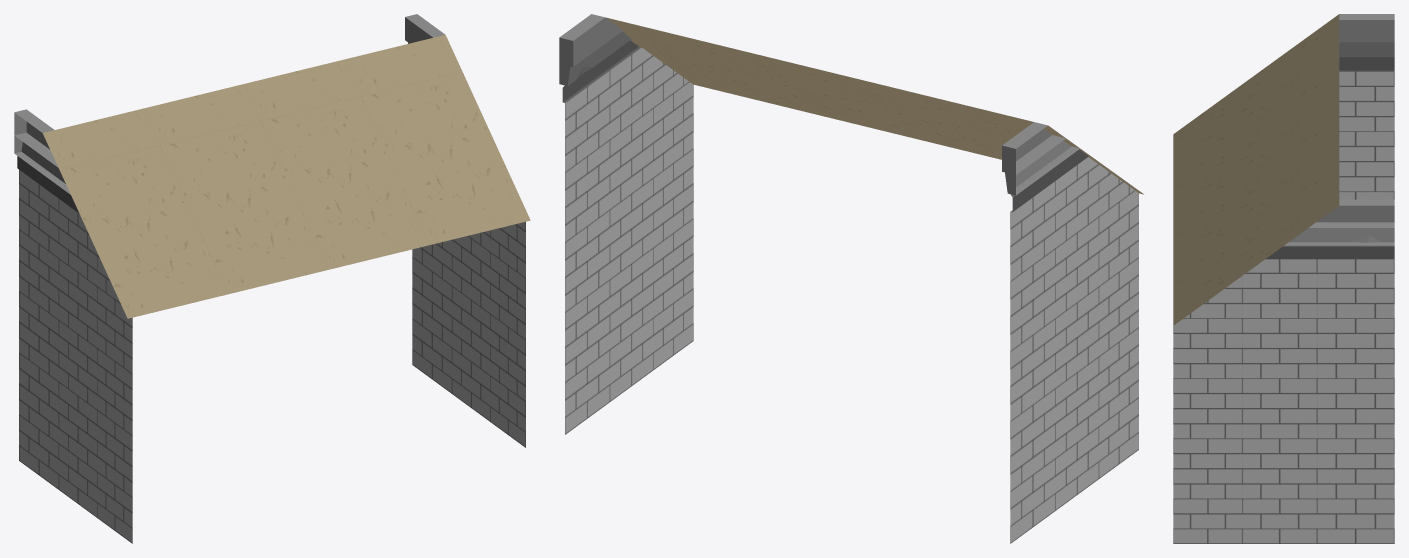
Rendered from SW_ENV_StationStair_Short_Surround_Upper_FF.fbx.
The picture shows the model from 3 angles, left to right: view 1: azimuth 30°, elevation 25°; view 2: azimuth 150°, elevation 25°; view 3: azimuth 270°, elevation 25°; orthographic projection. The views are drawn at different scales.
Parts seen in each view (by area): view 1: SW_ENV_StationStair_Short_Surround_Upper_FF; view 2: SW_ENV_StationStair_Short_Surround_Upper_FF; view 3: SW_ENV_StationStair_Short_Surround_Upper_FF.
Boxes of the visible parts, <box> form: SW_ENV_StationStair_Short_Surround_Upper_FF: <box>14,14,530,543</box>; SW_ENV_StationStair_Short_Surround_Upper_FF: <box>559,14,1143,543</box>; SW_ENV_StationStair_Short_Surround_Upper_FF: <box>1173,14,1394,543</box>.
Size of the model in its own units: 410 by 340 by 200.
